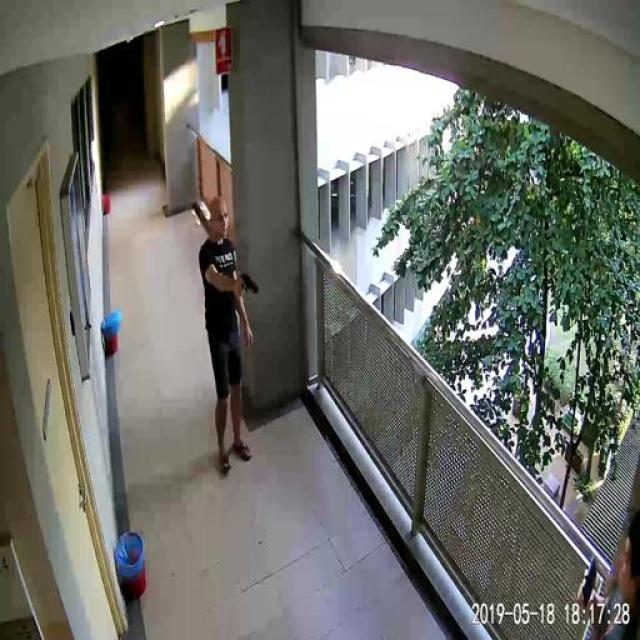Gun: (234, 272, 264, 306)
